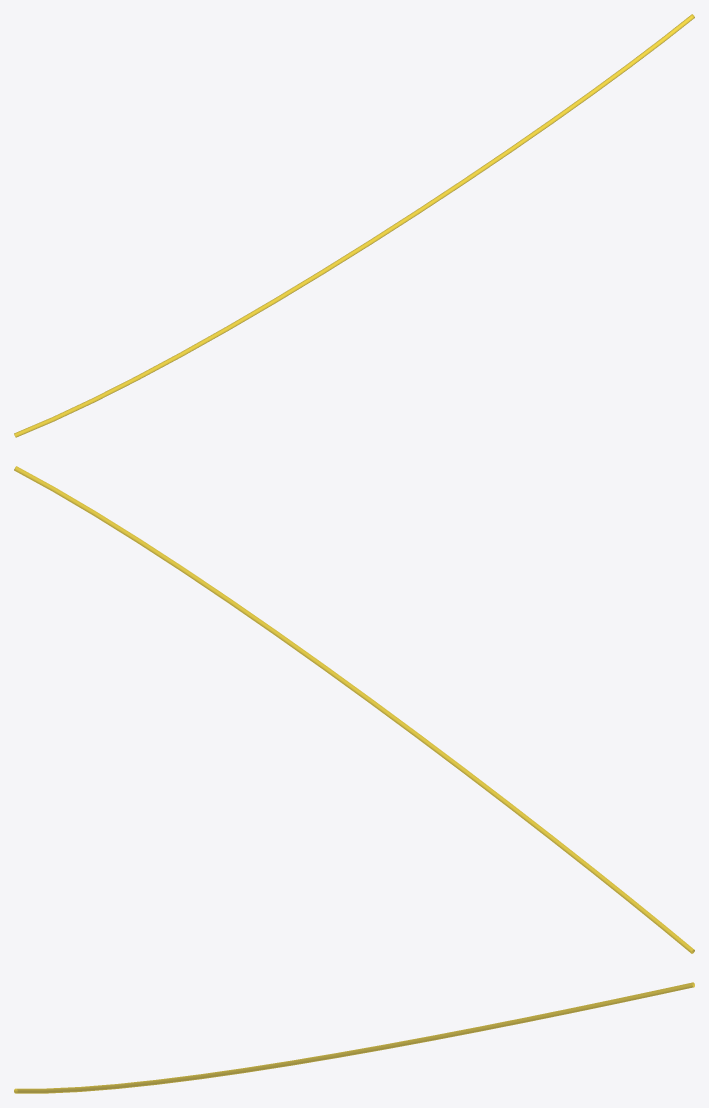
File: Event_402970704_track_9.fbx
3 views of the same model, one above another, from view 1: azimuth 30°, elevation 25°; view 2: azimuth 150°, elevation 25°; view 3: azimuth 330°, elevation 25° (orthographic). The views are drawn at different scales.
Parts seen in each view (by area): view 1: Model; view 2: Model; view 3: Model.
Part boxes in pixels (box(x1,y1,x2,y2)): Model: box(14, 14, 694, 437); Model: box(14, 466, 694, 953); Model: box(14, 982, 694, 1093).
Bounding box in the file's own units: 6.35 × 2.58 × 0.5416.
